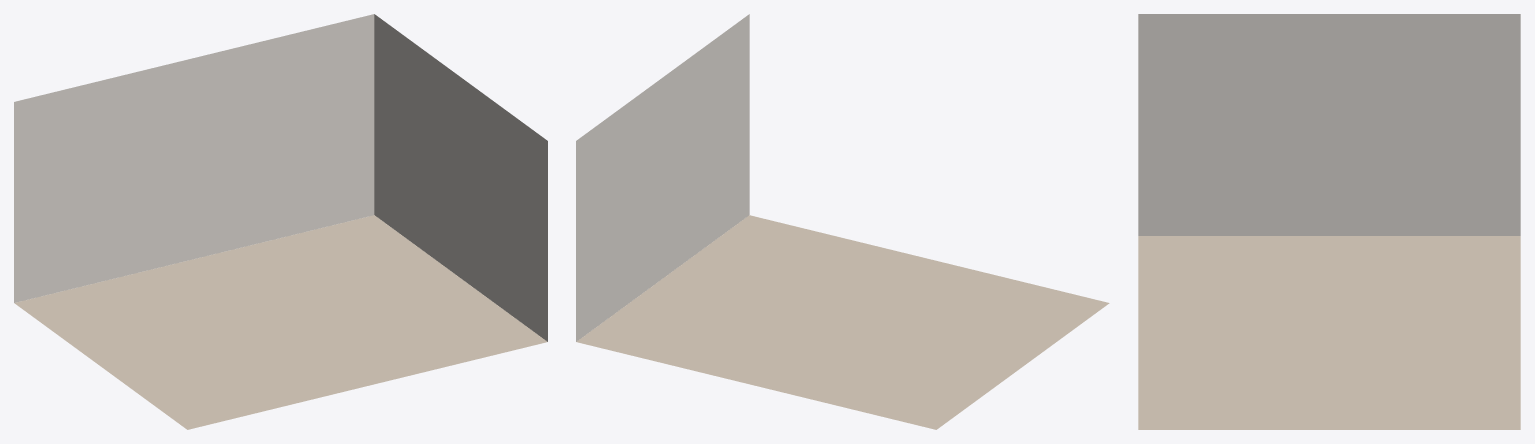
Rendered from backing-arcos_chiara.glb.
3 renders of one model, left to right at view 1: azimuth 30°, elevation 25°; view 2: azimuth 150°, elevation 25°; view 3: azimuth 270°, elevation 25°, orthographic. The views are drawn at different scales.
Parts seen in each view (by area): view 1: sala; view 2: sala; view 3: sala.
Part boxes in pixels (x1,y1,x2,y2): sala: (14,14,547,429); sala: (576,14,1109,429); sala: (1138,14,1520,429).
Bounding box in the file's own units: 6 × 3.2 × 5.
